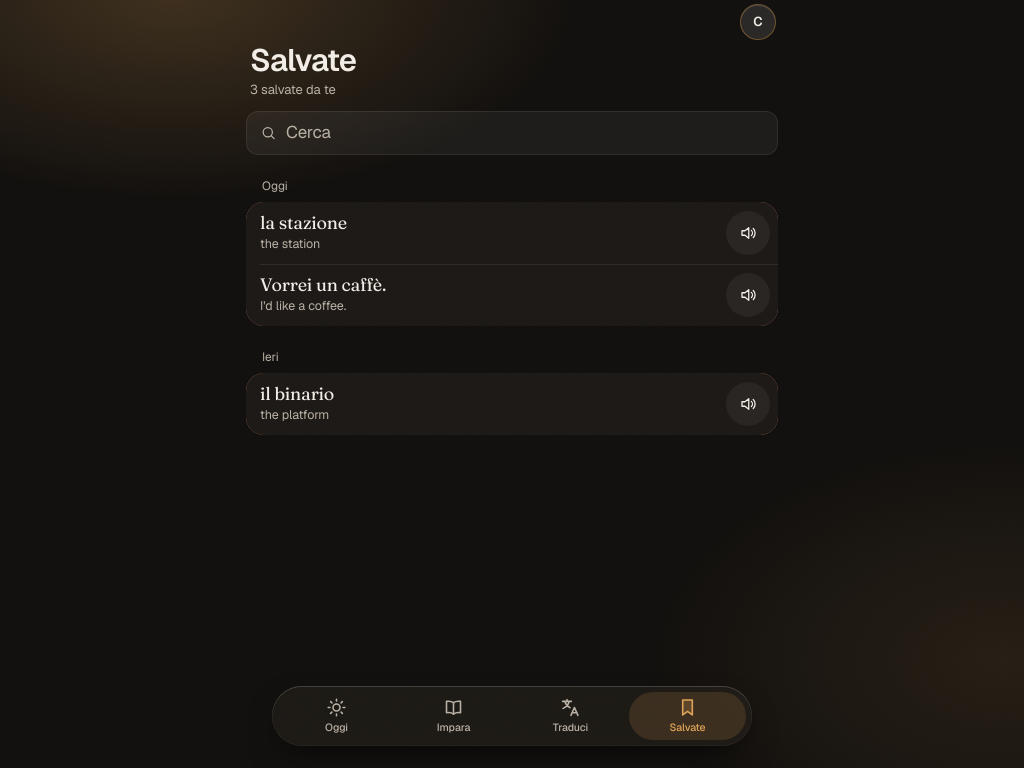
Test: Salvate › deletes from the actions sheet and undo restores the row with its date
Step 1. Click the text "la stazione" → (304, 223), box top-left (260, 211), bottom-right (347, 234)
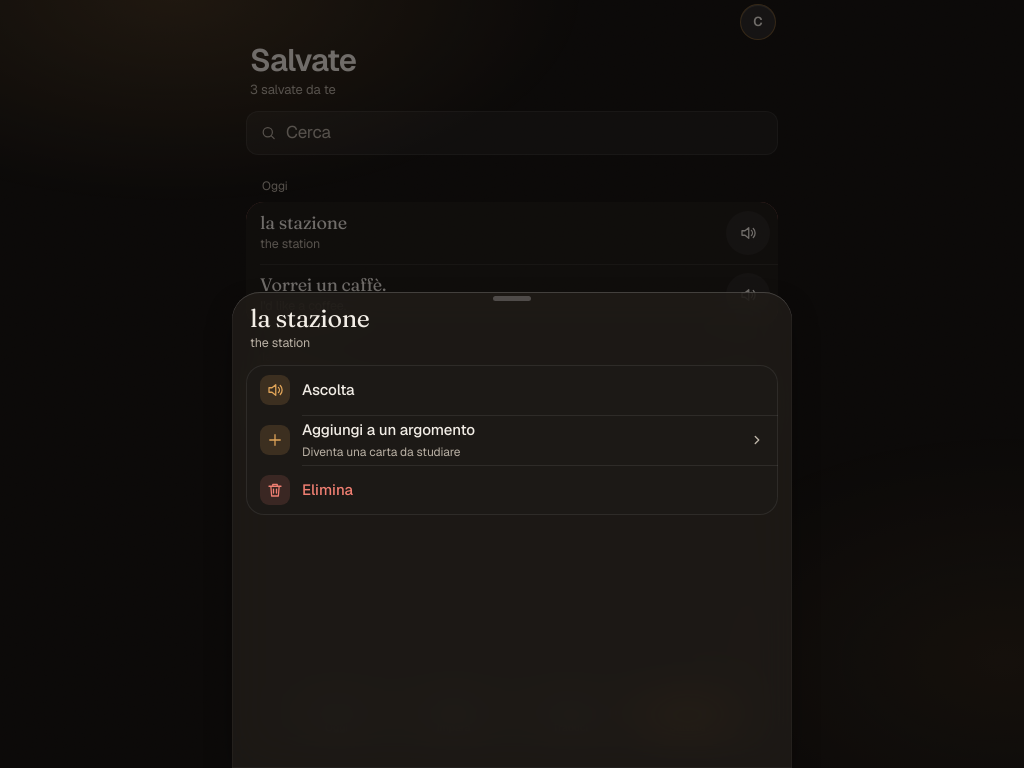
Step 2. Click the button "Elimina" → (327, 489), box top-left (246, 465), bottom-right (778, 515)
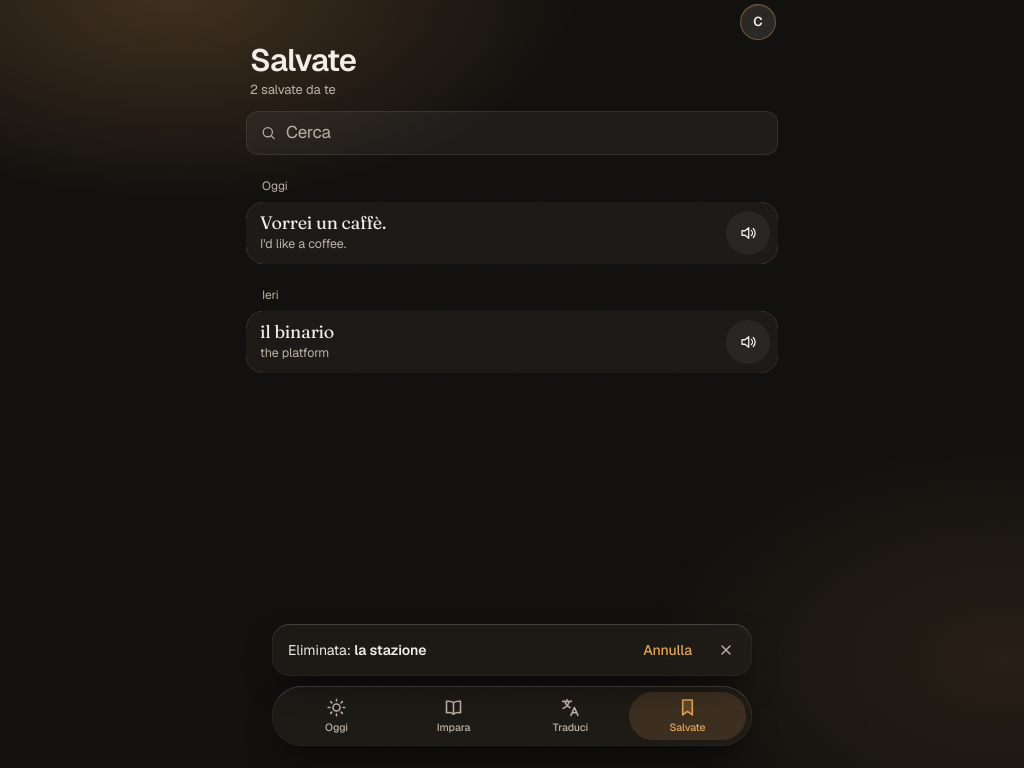
Now the text "2 salvate da te" is shown, box top-left (250, 80), bottom-right (336, 98)
Step 3. Click the button "Annulla" → (668, 650), box top-left (633, 628), bottom-right (702, 672)
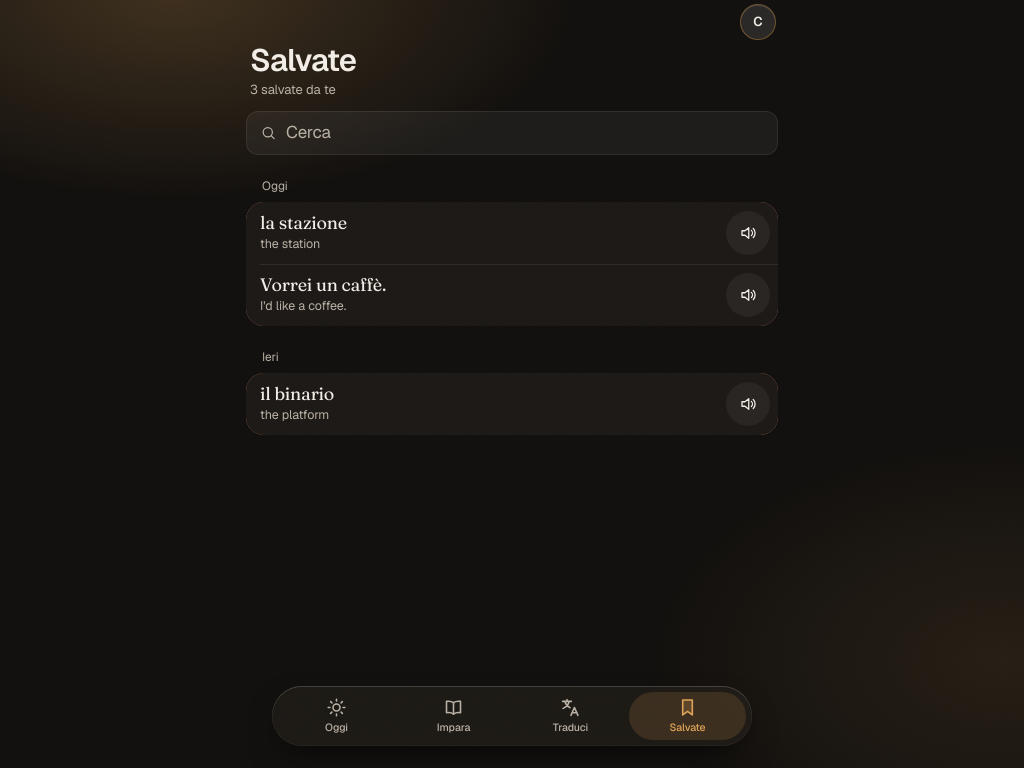
Now the text "3 salvate da te" is shown, box top-left (250, 80), bottom-right (336, 98)
